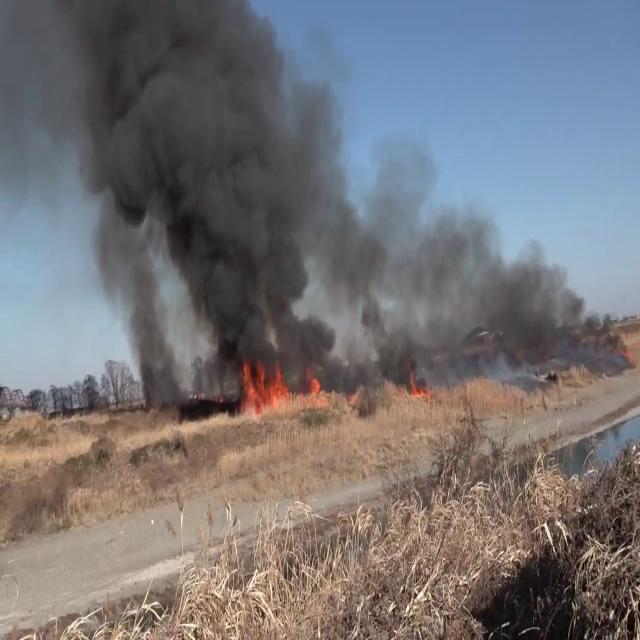Fire: (236, 348, 354, 418)
Smoke: (2, 0, 382, 396), (337, 168, 616, 384)
